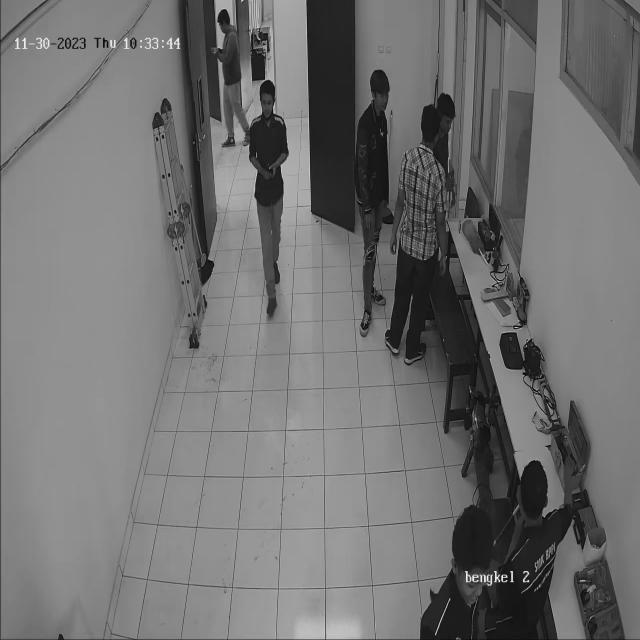person: (239, 62, 293, 328), (392, 94, 443, 366), (348, 57, 389, 347)
